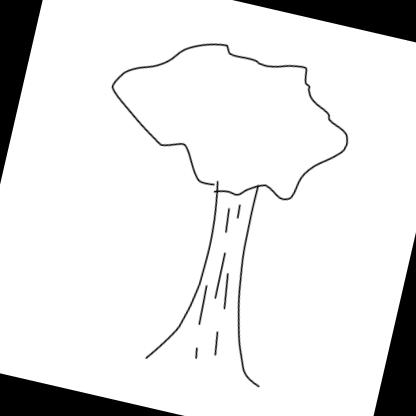crown_dizzy: (95, 22, 364, 220)
trunk_bark: (158, 201, 276, 363)
